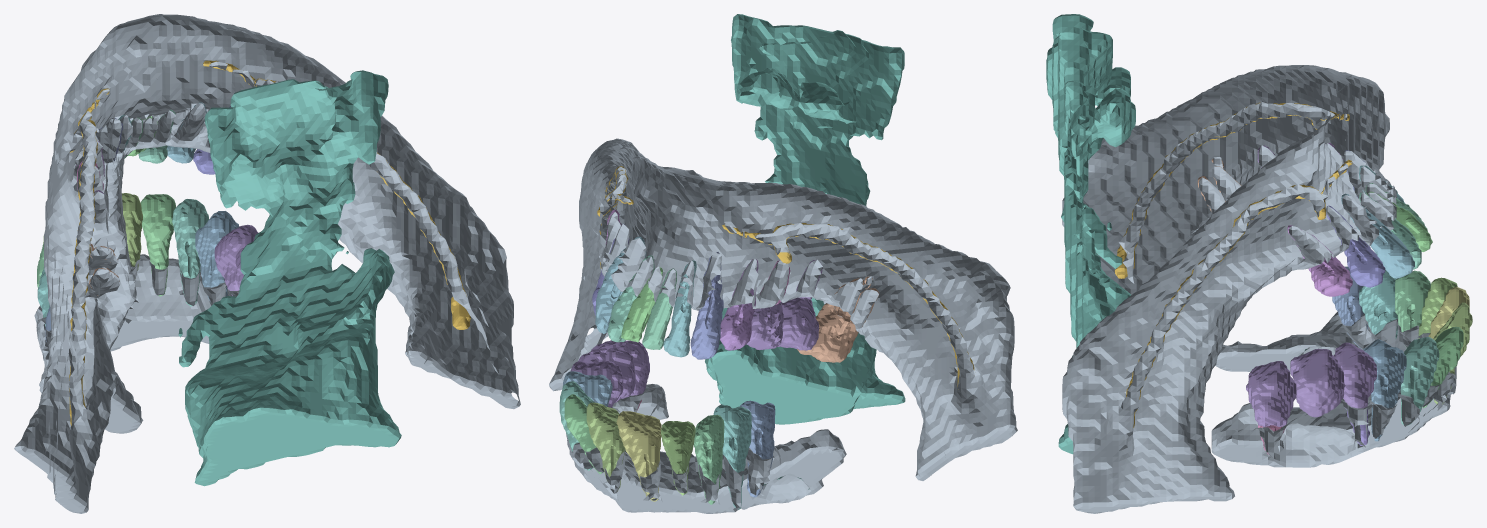
Rendered from ToothFairy3F_001.glb.
3 renders of one model, left to right at view 1: azimuth 30°, elevation 25°; view 2: azimuth 150°, elevation 25°; view 3: azimuth 270°, elevation 25°, orthographic. The views are drawn at different scales.
Visible parts, largest first — view 1: jaws__1, other__7, jaws__2, teeth__22, teeth__23, teeth__24, restorations__9, teeth__21, canals__3, canals__4; view 2: jaws__1, other__7, jaws__2, restorations__9, teeth__11, teeth__47, teeth__43, teeth__21, teeth__14, teeth__13, teeth__15, teeth__12 (+11 smaller); view 3: jaws__1, other__7, jaws__2, restorations__9, restorations__8, teeth__24, teeth__23, teeth__13, teeth__14, teeth__33, teeth__34, teeth__35 (+9 smaller).
Part boxes in pixels (x1=…): jaws__1: x1=14, y1=14, x2=520, y2=513; other__7: x1=178, y1=70, x2=401, y2=486; jaws__2: x1=34, y1=254, x2=239, y2=433; teeth__22: x1=140, y1=194, x2=175, y2=296; teeth__23: x1=172, y1=199, x2=208, y2=306; teeth__24: x1=195, y1=211, x2=239, y2=301; restorations__9: x1=214, y1=224, x2=258, y2=290; teeth__21: x1=122, y1=193, x2=142, y2=278; canals__3: x1=254, y1=78, x2=470, y2=329; canals__4: x1=69, y1=120, x2=97, y2=425; jaws__1: x1=549, y1=138, x2=1017, y2=480; other__7: x1=705, y1=14, x2=905, y2=424; jaws__2: x1=566, y1=384, x2=846, y2=513; restorations__9: x1=570, y1=297, x2=818, y2=407; teeth__11: x1=616, y1=411, x2=661, y2=501; teeth__47: x1=797, y1=276, x2=879, y2=362; teeth__43: x1=690, y1=252, x2=723, y2=359; teeth__21: x1=586, y1=402, x2=625, y2=491; teeth__14: x1=713, y1=404, x2=751, y2=509; teeth__13: x1=693, y1=414, x2=724, y2=504; teeth__15: x1=739, y1=400, x2=775, y2=497; teeth__12: x1=661, y1=421, x2=695, y2=495; jaws__1: x1=1062, y1=65, x2=1396, y2=513; other__7: x1=1046, y1=14, x2=1135, y2=454; jaws__2: x1=1211, y1=311, x2=1456, y2=467; restorations__9: x1=1246, y1=342, x2=1376, y2=427; restorations__8: x1=1290, y1=348, x2=1345, y2=417; teeth__24: x1=1363, y1=339, x2=1406, y2=441; teeth__23: x1=1400, y1=337, x2=1439, y2=425; teeth__13: x1=1395, y1=270, x2=1430, y2=348; teeth__14: x1=1359, y1=270, x2=1397, y2=338; teeth__33: x1=1341, y1=193, x2=1414, y2=278; teeth__34: x1=1326, y1=205, x2=1385, y2=287; teeth__35: x1=1287, y1=225, x2=1352, y2=296.
Size of the model in its own units: 100 by 78.19 by 85.6.
